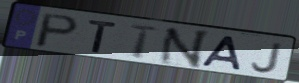A: (199, 35, 243, 72)
J: (249, 41, 286, 75)
N: (156, 27, 212, 69)
P: (32, 12, 82, 50)
T: (127, 23, 161, 61), (86, 19, 120, 55)
